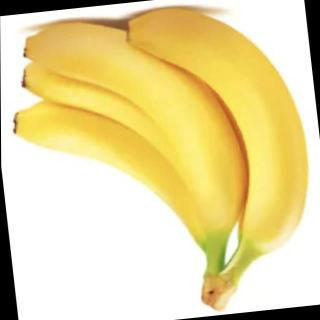banana: (17, 3, 255, 257), (123, 0, 320, 267), (7, 74, 219, 264)
